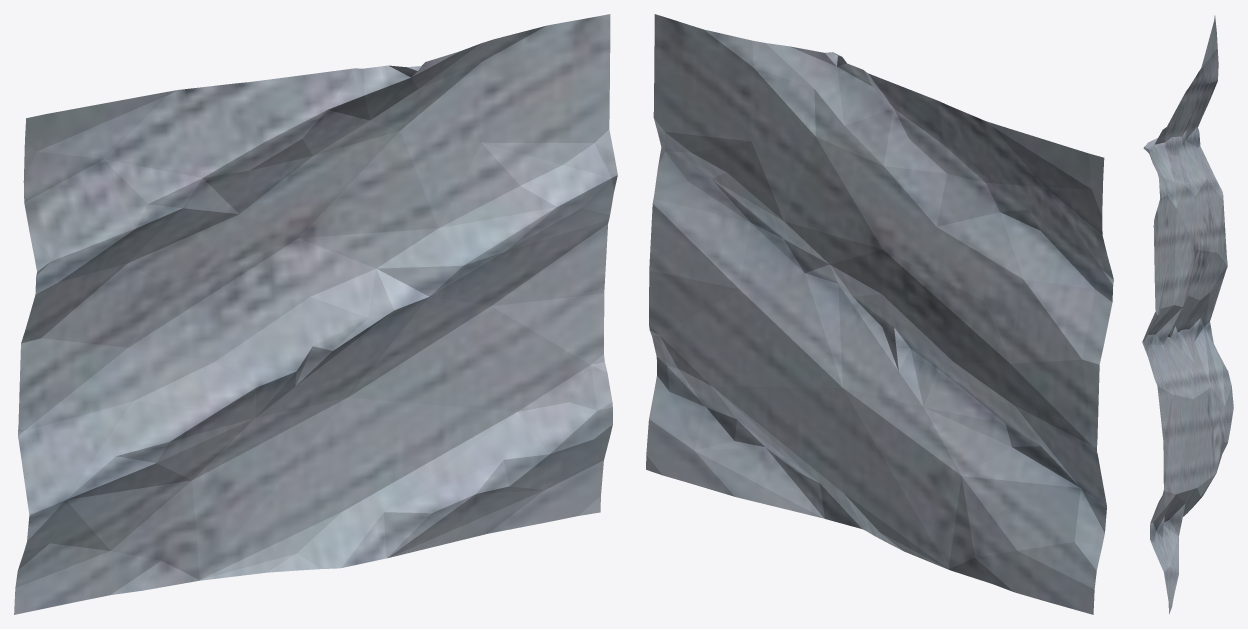
File: Tile_+004_+006_L24_0011333.obj
3 renders of one model, left to right at view 1: azimuth 30°, elevation 25°; view 2: azimuth 150°, elevation 25°; view 3: azimuth 270°, elevation 25°, orthographic. The views are drawn at different scales.
Bounding box in the file's own units: 1.08 × 0.9531 × 0.2011.
Materials: 1 (1 with a texture image).
